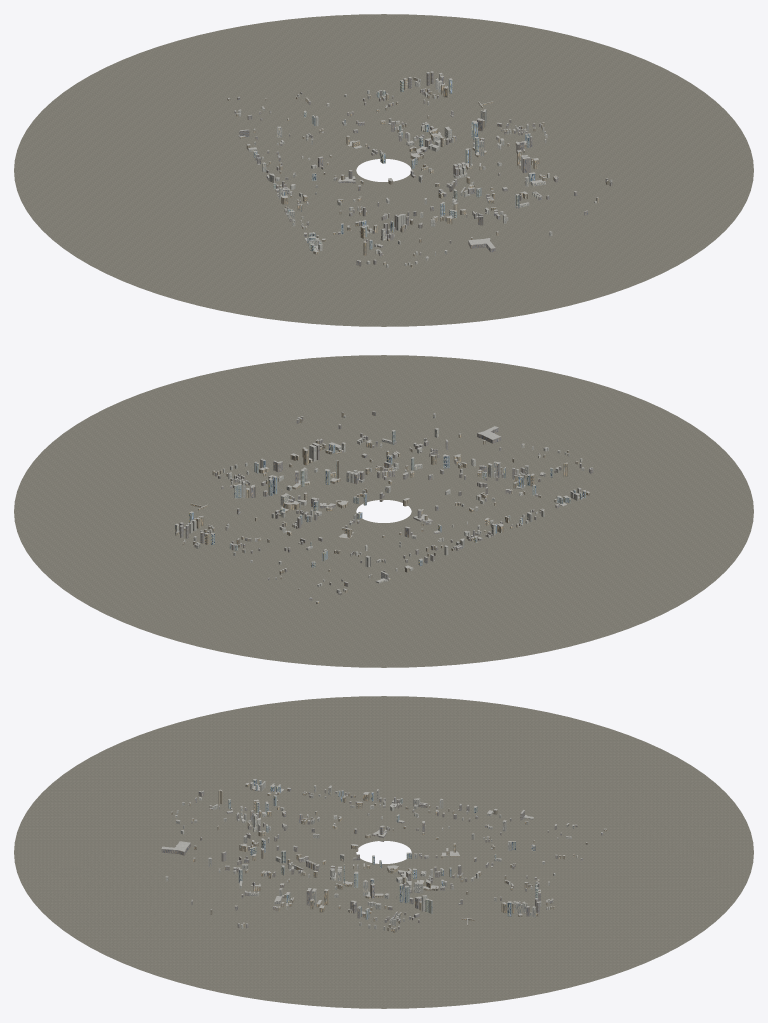
File: far.glb
3 views of the same model, one above another, from view 1: azimuth 30°, elevation 25°; view 2: azimuth 150°, elevation 25°; view 3: azimuth 270°, elevation 25° (orthographic).
Parts seen in each view (by area): view 1: far_ground, far_roof, far_band, far_plaster, far_stone, far_glass; view 2: far_ground, far_roof, far_band, far_plaster, far_stone, far_glass; view 3: far_ground, far_roof, far_plaster, far_band, far_stone, far_glass.
Part boxes in pixels (x1,y1,x2,y2): far_ground: (14, 14, 753, 326); far_roof: (228, 71, 611, 265); far_band: (234, 72, 612, 266); far_plaster: (238, 73, 612, 267); far_stone: (227, 77, 608, 267); far_glass: (253, 79, 535, 251); far_ground: (14, 355, 753, 667); far_roof: (175, 411, 592, 602); far_band: (179, 411, 593, 600); far_plaster: (175, 414, 584, 593); far_stone: (175, 412, 589, 603); far_glass: (189, 431, 585, 567); far_ground: (14, 696, 753, 1008); far_roof: (161, 779, 606, 928); far_plaster: (165, 781, 577, 930); far_band: (161, 788, 603, 931); far_stone: (171, 783, 607, 933); far_glass: (228, 779, 538, 919).
Size of the model in its own units: 8000 by 300 by 8000.
Materials: 6 (6 with a texture image).
